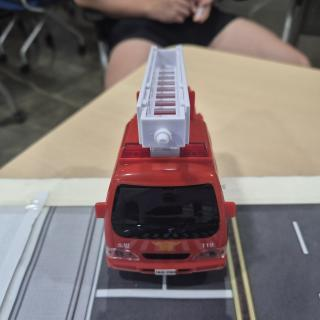Fire_truck: (95, 46, 236, 275)
